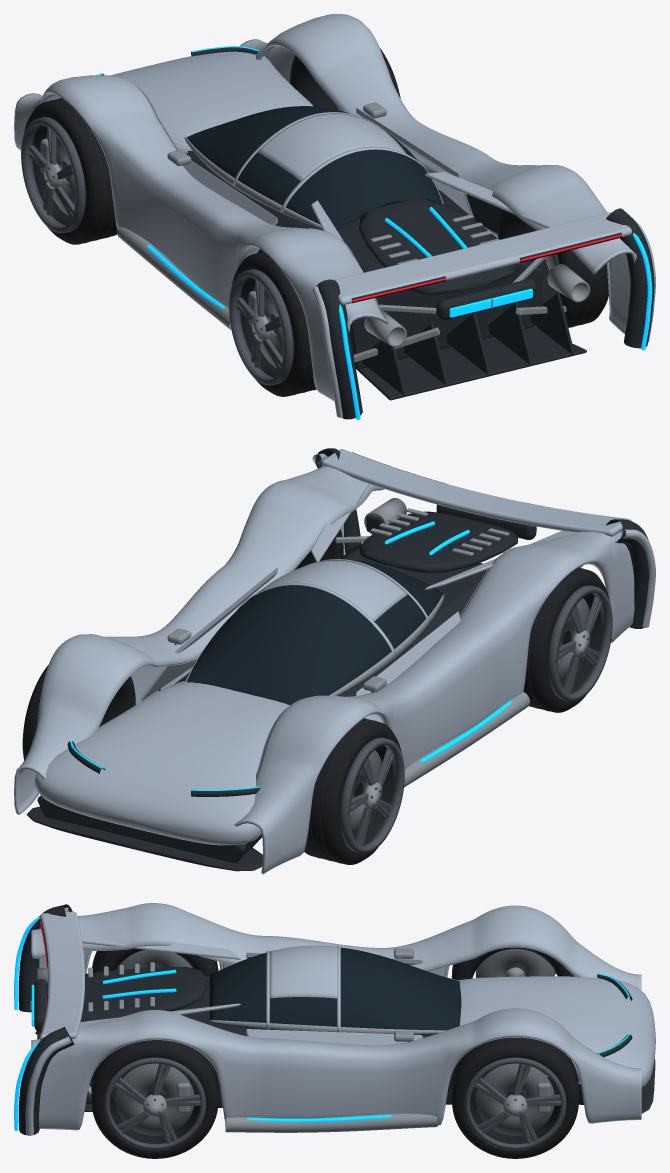
File: Cloudline_C05.glb
The picture shows the model from 3 angles, top to bottom: view 1: azimuth 30°, elevation 25°; view 2: azimuth 150°, elevation 25°; view 3: azimuth 270°, elevation 25°; orthographic projection. The views are drawn at different scales.
Parts seen in each view (by area): view 1: Continuous silver haunch -1, Continuous silver haunch 1, Cabin continuous glazing, Low silver nose, Swept full-width rear bridge, Low carbon chassis, Engine cover, Front tire -1, Cabin flush roof, Recessed diffuser floor, Rear tire -1, Rear tire 1 (+26 smaller); view 2: Continuous silver haunch -1, Low silver nose, Continuous silver haunch 1, Cabin continuous glazing, Swept full-width rear bridge, Engine cover, Front tire -1, Low carbon chassis, Rear tire -1, Cabin flush roof, Front aero lip, Rear rim lip -1 (+16 smaller); view 3: Continuous silver haunch 1, Continuous silver haunch -1, Cabin continuous glazing, Low silver nose, Front tire 1, Rear tire 1, Engine cover, Swept full-width rear bridge, Cabin flush roof, Lower silver sill 1, Front brake rotor 1, Rear brake rotor 1 (+21 smaller).
Part boxes in pixels (left/top/right/bottom): Continuous silver haunch -1: left=14, top=75, right=388, bottom=401; Continuous silver haunch 1: left=240, top=14, right=636, bottom=333; Cabin continuous glazing: left=185, top=106, right=441, bottom=230; Low silver nose: left=45, top=51, right=313, bottom=153; Swept full-width rear bridge: left=334, top=212, right=631, bottom=304; Low carbon chassis: left=186, top=151, right=543, bottom=369; Engine cover: left=359, top=198, right=517, bottom=294; Front tire -1: left=24, top=98, right=117, bottom=244; Cabin flush roof: left=258, top=113, right=406, bottom=180; Recessed diffuser floor: left=356, top=326, right=586, bottom=400; Rear tire -1: left=232, top=251, right=315, bottom=396; Rear tire 1: left=498, top=209, right=608, bottom=327; Continuous silver haunch -1: left=234, top=531, right=634, bottom=874; Low silver nose: left=34, top=681, right=289, bottom=845; Continuous silver haunch 1: left=14, top=466, right=384, bottom=814; Cabin continuous glazing: left=186, top=560, right=444, bottom=705; Swept full-width rear bridge: left=321, top=449, right=631, bottom=536; Engine cover: left=359, top=511, right=517, bottom=572; Front tire -1: left=304, top=718, right=401, bottom=864; Low carbon chassis: left=37, top=544, right=486, bottom=863; Rear tire -1: left=523, top=567, right=609, bottom=712; Cabin flush roof: left=257, top=560, right=407, bottom=621; Front aero lip: left=26, top=806, right=262, bottom=871; Rear rim lip -1: left=548, top=585, right=612, bottom=701; Continuous silver haunch 1: left=31, top=1008, right=641, bottom=1130; Continuous silver haunch -1: left=31, top=903, right=641, bottom=990; Cabin continuous glazing: left=209, top=947, right=461, bottom=1034; Low silver nose: left=458, top=976, right=655, bottom=1087; Front tire 1: left=452, top=1037, right=578, bottom=1158; Rear tire 1: left=91, top=1040, right=218, bottom=1158; Engine cover: left=80, top=966, right=209, bottom=1021; Swept full-width rear bridge: left=39, top=911, right=84, bottom=1040; Cabin flush roof: left=270, top=945, right=337, bottom=998; Lower silver sill 1: left=225, top=1113, right=437, bottom=1132; Front brake rotor 1: left=475, top=1063, right=554, bottom=1135; Rear brake rotor 1: left=115, top=1063, right=194, bottom=1135.
Size of the model in its own units: 2.65 by 1.26 by 5.18.
